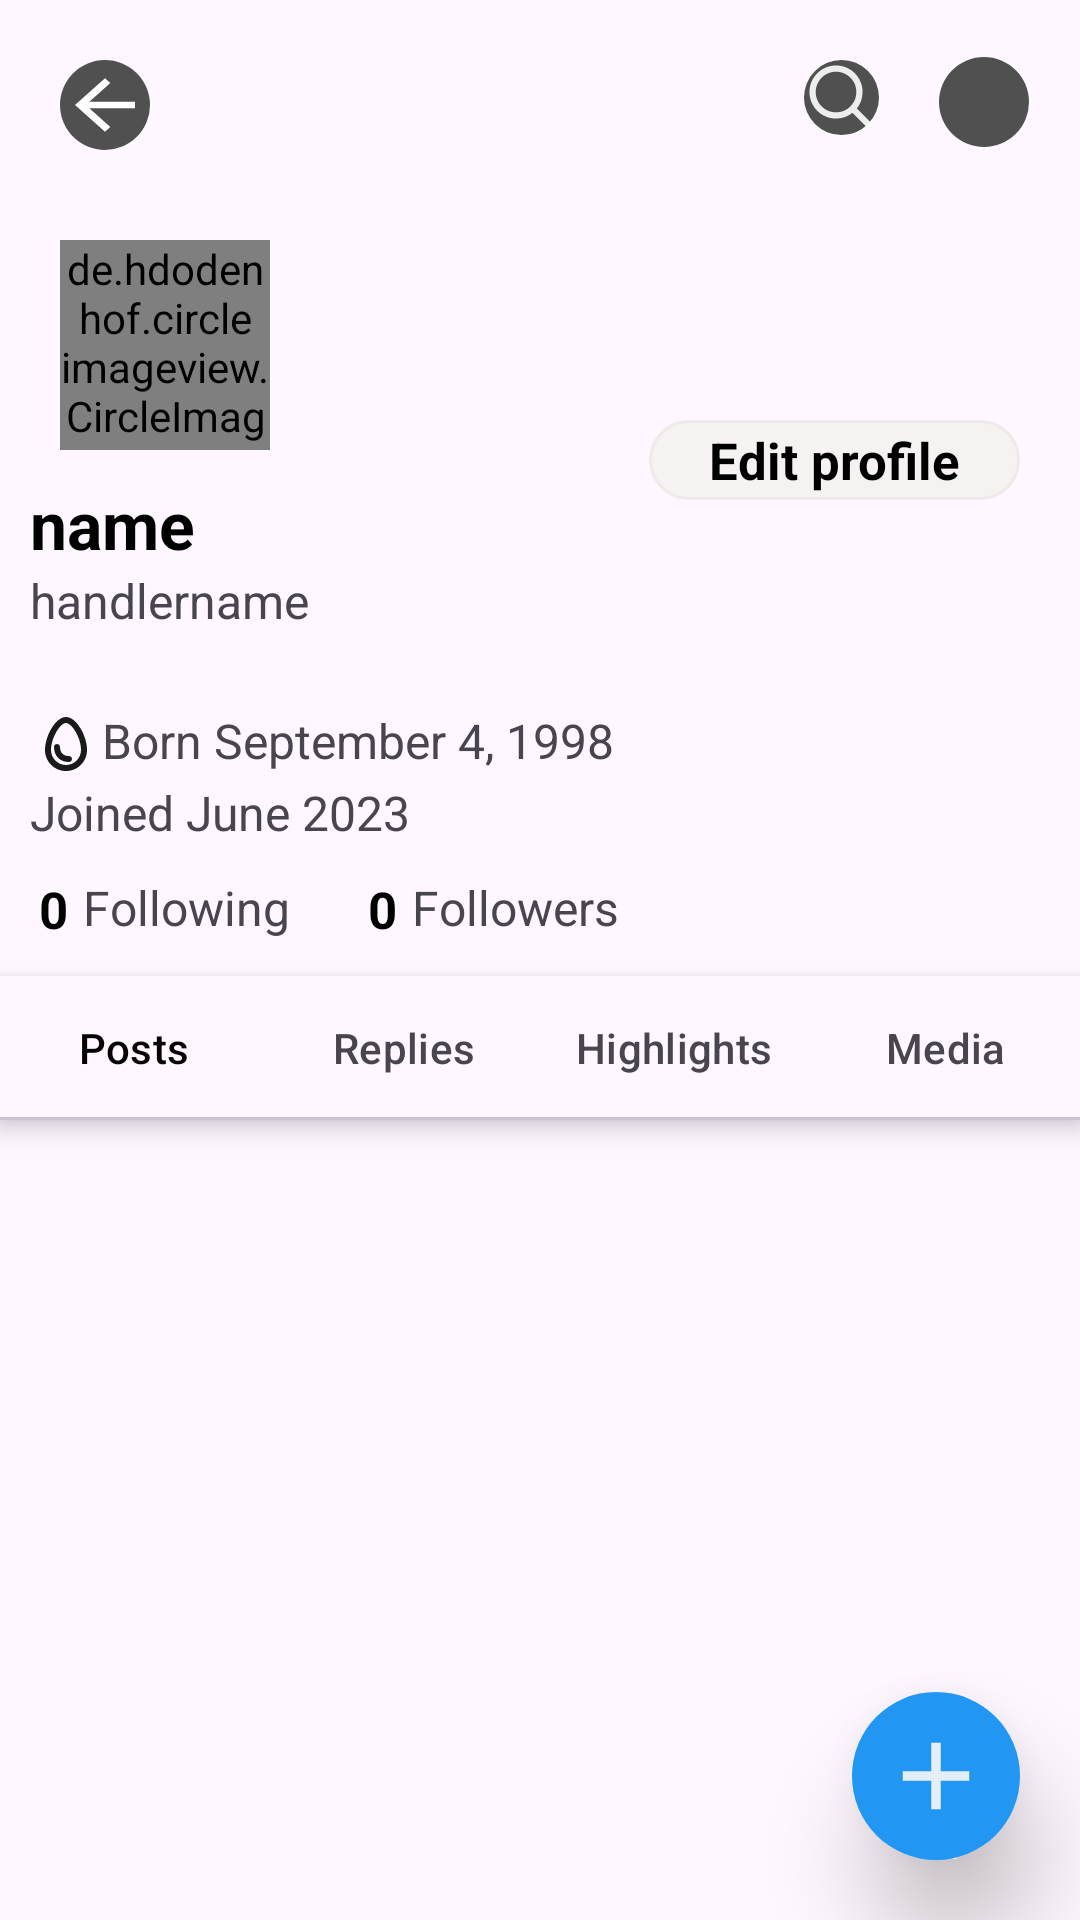

Named icons in this screenshot (1080 × 1920) and their centers, point (x, y):
add: point (936, 1776)
arrow back: point (105, 105)
tsearch: point (841, 97)
